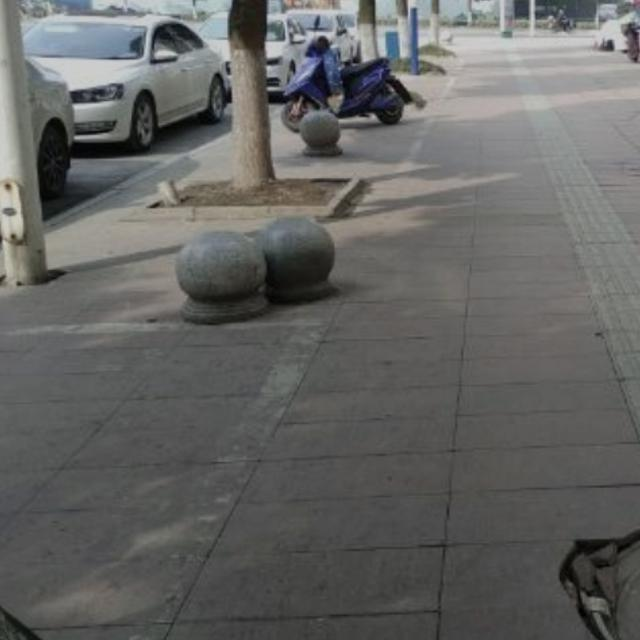uncovered: (570, 521, 640, 640)
